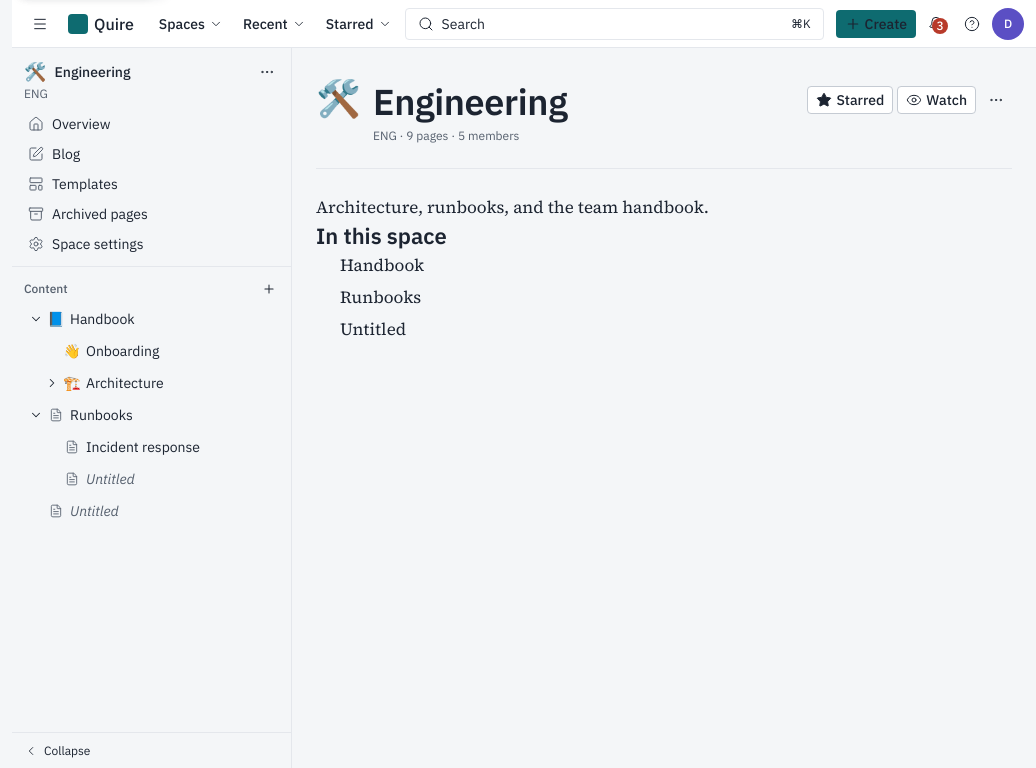
it: routing & shell › collapses and expands the space nav
Click the button with aria-label "Collapse navigation": (67, 750) [12,732,291,767]
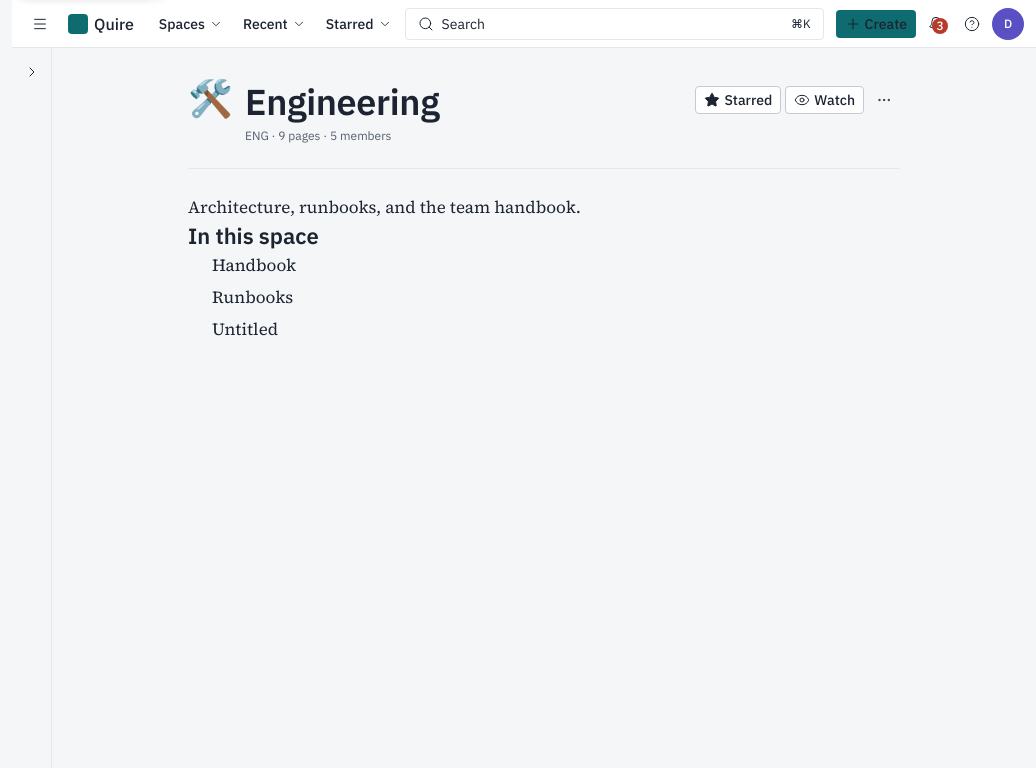
Click the button named "Expand navigation": (32, 72) [16,56,48,88]
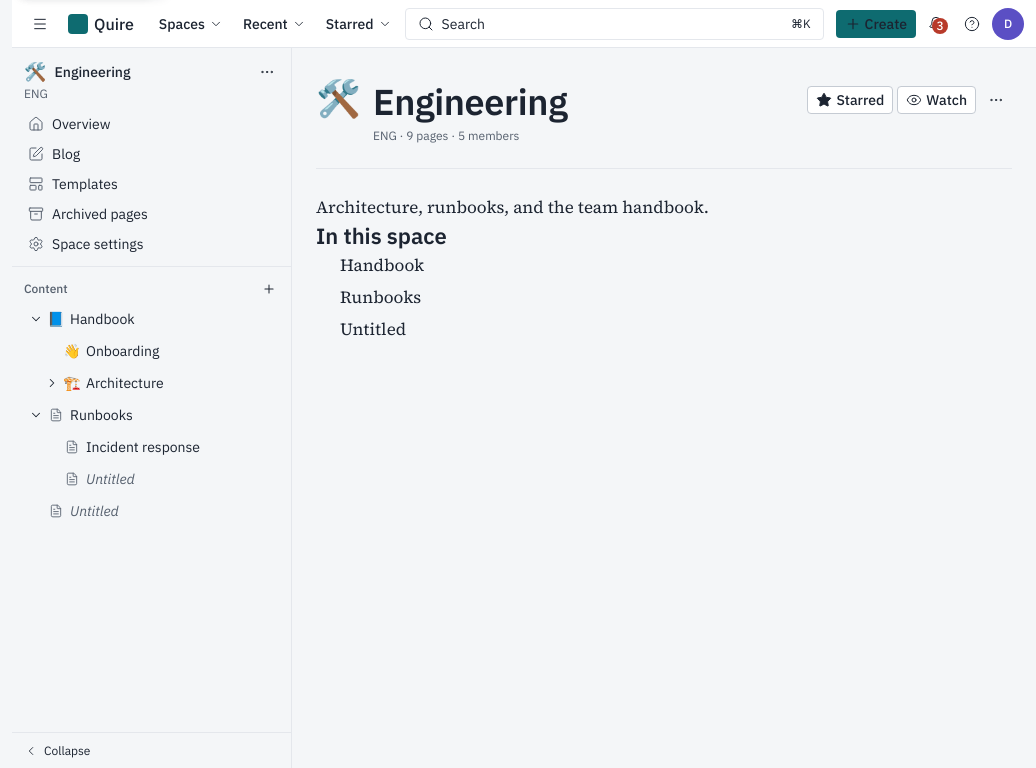
Check: the navigation bar "Engineering" is shown, box [12,48,292,767]
